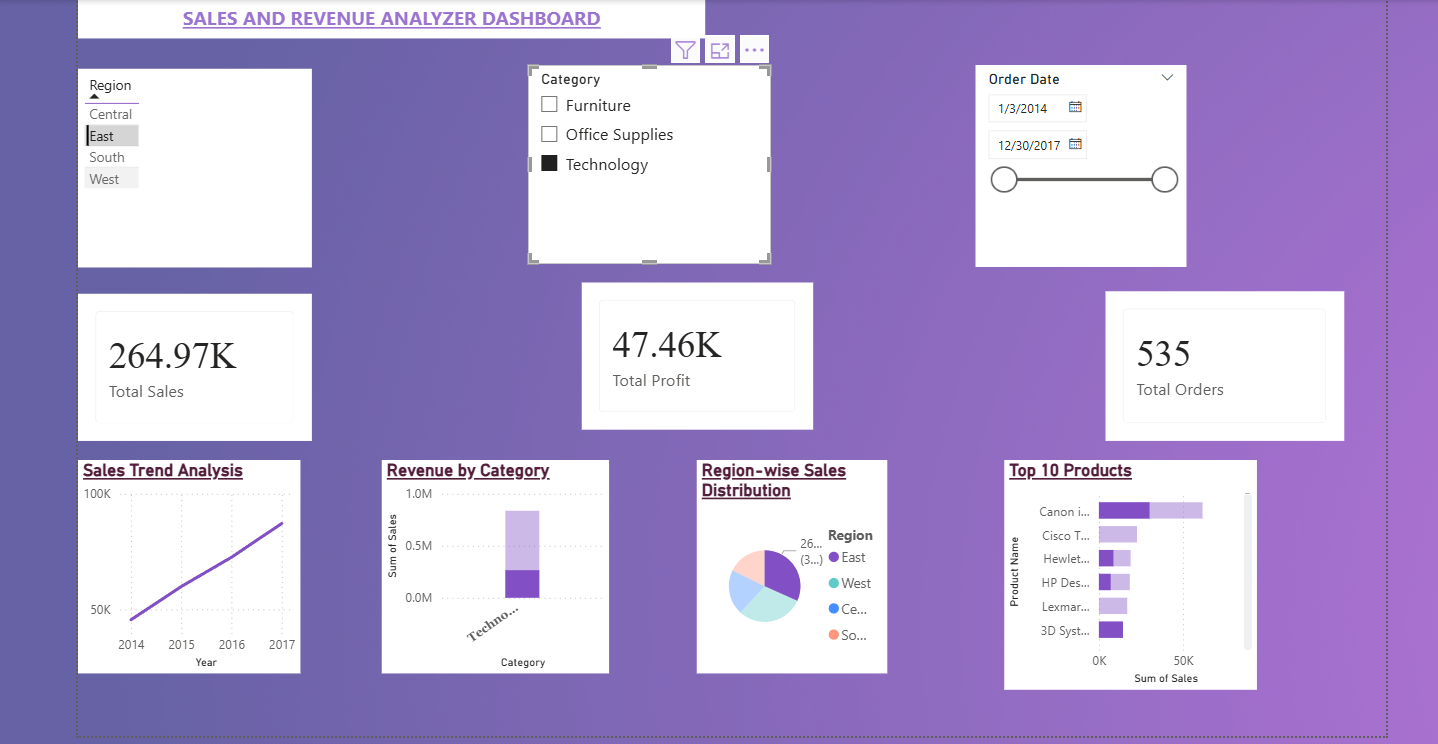

This screenshot's page, from the dashboard's own definition file:
{"tool":"powerbi","page":{"name":"Page 1","canvas":[1280,720],"ordinal":0},"visuals":[{"type":"cardVisual","fields":{"Data":["Sample_superstore.Total Sales"]},"box":[0,287.4,228.7,144.3],"z":0},{"type":"cardVisual","fields":{"Data":["Sample_superstore.Total Profit"]},"box":[492.8,276.4,226.2,144.3],"z":1000},{"type":"cardVisual","fields":{"Data":["Sample_superstore.Total Orders"]},"box":[1005.2,284.9,233.6,146.7],"z":2000},{"type":"lineChart","title":"Sales Trend Analysis","fields":{"Category":["Sample_superstore.Order Date.Variation.Date Hierarchy.Year","Sample_superstore.Order Date.Variation.Date Hierarchy.Quarter","Sample_superstore.Order Date.Variation.Date Hierarchy.Month","Sample_superstore.Order Date.Variation.Date Hierarchy.Day"],"Y":["Sum(Sample_superstore.Sales)"]},"box":[0,450,217.5,208.8],"z":3000},{"type":"clusteredColumnChart","title":"Revenue by Category","fields":{"Category":["Sample_superstore.Category"],"Y":["Sum(Sample_superstore.Sales)"]},"box":[297.5,450,222.5,208.8],"z":4000},{"type":"clusteredBarChart","title":"Top 10 Products ","fields":{"Category":["Sample_superstore.Product Name"],"Y":["Sum(Sample_superstore.Sales)"]},"box":[906.2,450,247.5,225],"z":5000},{"type":"pieChart","title":"Region-wise Sales Distribution","fields":{"Category":["Sample_superstore.Region"],"Y":["Sum(Sample_superstore.Sales)"]},"box":[605.3,450,231.1,209.1],"z":6000},{"type":"slicer","fields":{"Values":["Sample_superstore.Category"]},"box":[440.2,63.6,237.2,194.4],"z":7000},{"type":"tableEx","fields":{"Values":["Sample_superstore.Region"]},"box":[0,67.3,228.7,194.4],"z":8000},{"type":"slicer","fields":{"Values":["Sample_superstore.Order Date"]},"box":[878,63.6,206.7,196.9],"z":9000},{"type":"textbox","box":[0,0,613.8,37.5],"z":10000}]}

Visuals, with their boxes in screenshot pixels (x1, y1, x2, y2):
cardVisual - Sample_superstore.Total Sales: x1=75, y1=290, x2=308, y2=437
cardVisual - Sample_superstore.Total Profit: x1=578, y1=278, x2=809, y2=426
cardVisual - Sample_superstore.Total Orders: x1=1101, y1=287, x2=1339, y2=437
"Sales Trend Analysis" lineChart: x1=75, y1=456, x2=297, y2=669
"Revenue by Category" clusteredColumnChart: x1=379, y1=456, x2=606, y2=669
"Top 10 Products " clusteredBarChart: x1=1000, y1=456, x2=1252, y2=685
"Region-wise Sales Distribution" pieChart: x1=693, y1=456, x2=929, y2=669
slicer - Sample_superstore.Category: x1=524, y1=61, x2=766, y2=260
tableEx - Sample_superstore.Region: x1=75, y1=65, x2=308, y2=263
slicer - Sample_superstore.Order Date: x1=971, y1=61, x2=1182, y2=262
textbox: x1=75, y1=0, x2=701, y2=35
